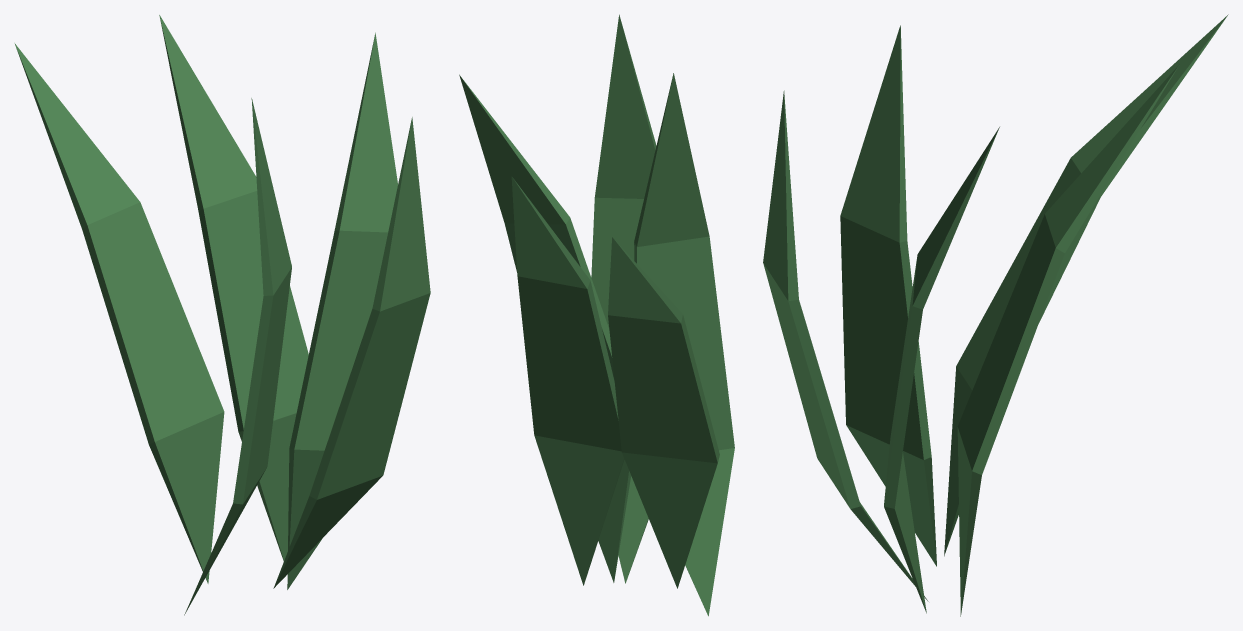
The model's file is Seaweed_011.glb.
The picture shows the model from 3 angles, left to right: view 1: azimuth 30°, elevation 25°; view 2: azimuth 150°, elevation 25°; view 3: azimuth 270°, elevation 25°; orthographic projection. The views are drawn at different scales.
Parts seen in each view (by area): view 1: Seaweed_011; view 2: Seaweed_011; view 3: Seaweed_011.
Part boxes in pixels (x1,y1,x2,y2): Seaweed_011: [14, 15, 430, 615]; Seaweed_011: [459, 14, 734, 616]; Seaweed_011: [763, 14, 1228, 616].
Size of the model in its own units: 0.4272 by 0.8233 by 0.6088.
1 material, 1 textured.
